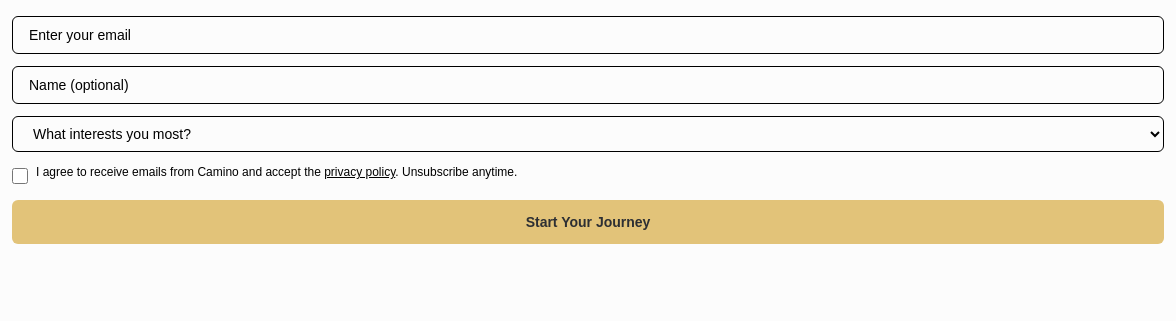
Scenario: LeadCaptureForm › handles API errors gracefully
Type "test@example.com" into the field with placeholder "Enter your email".
click(588, 35); type("test@example.com")  # box [12,16,1164,54]
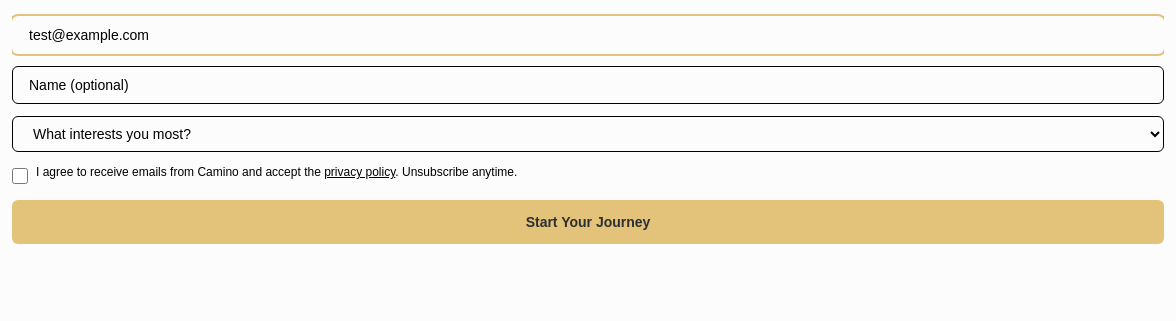
Click the checkbox.
click(20, 176)  # box [12,168,28,184]
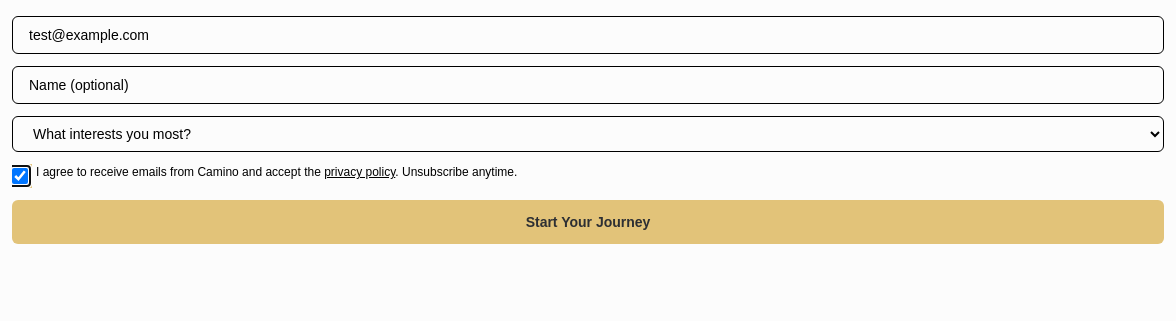
Click the button "Start Your Journey".
click(588, 222)  # box [12,200,1164,244]
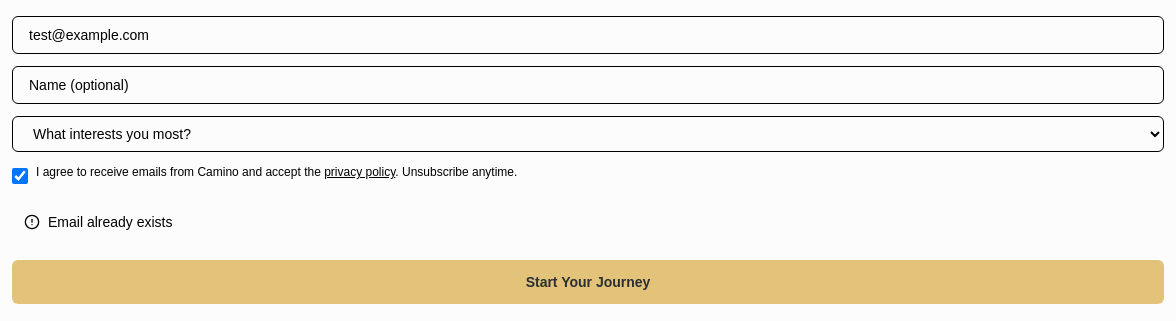
Check: the text "Email already exists" is shown, box [48,212,172,232]
